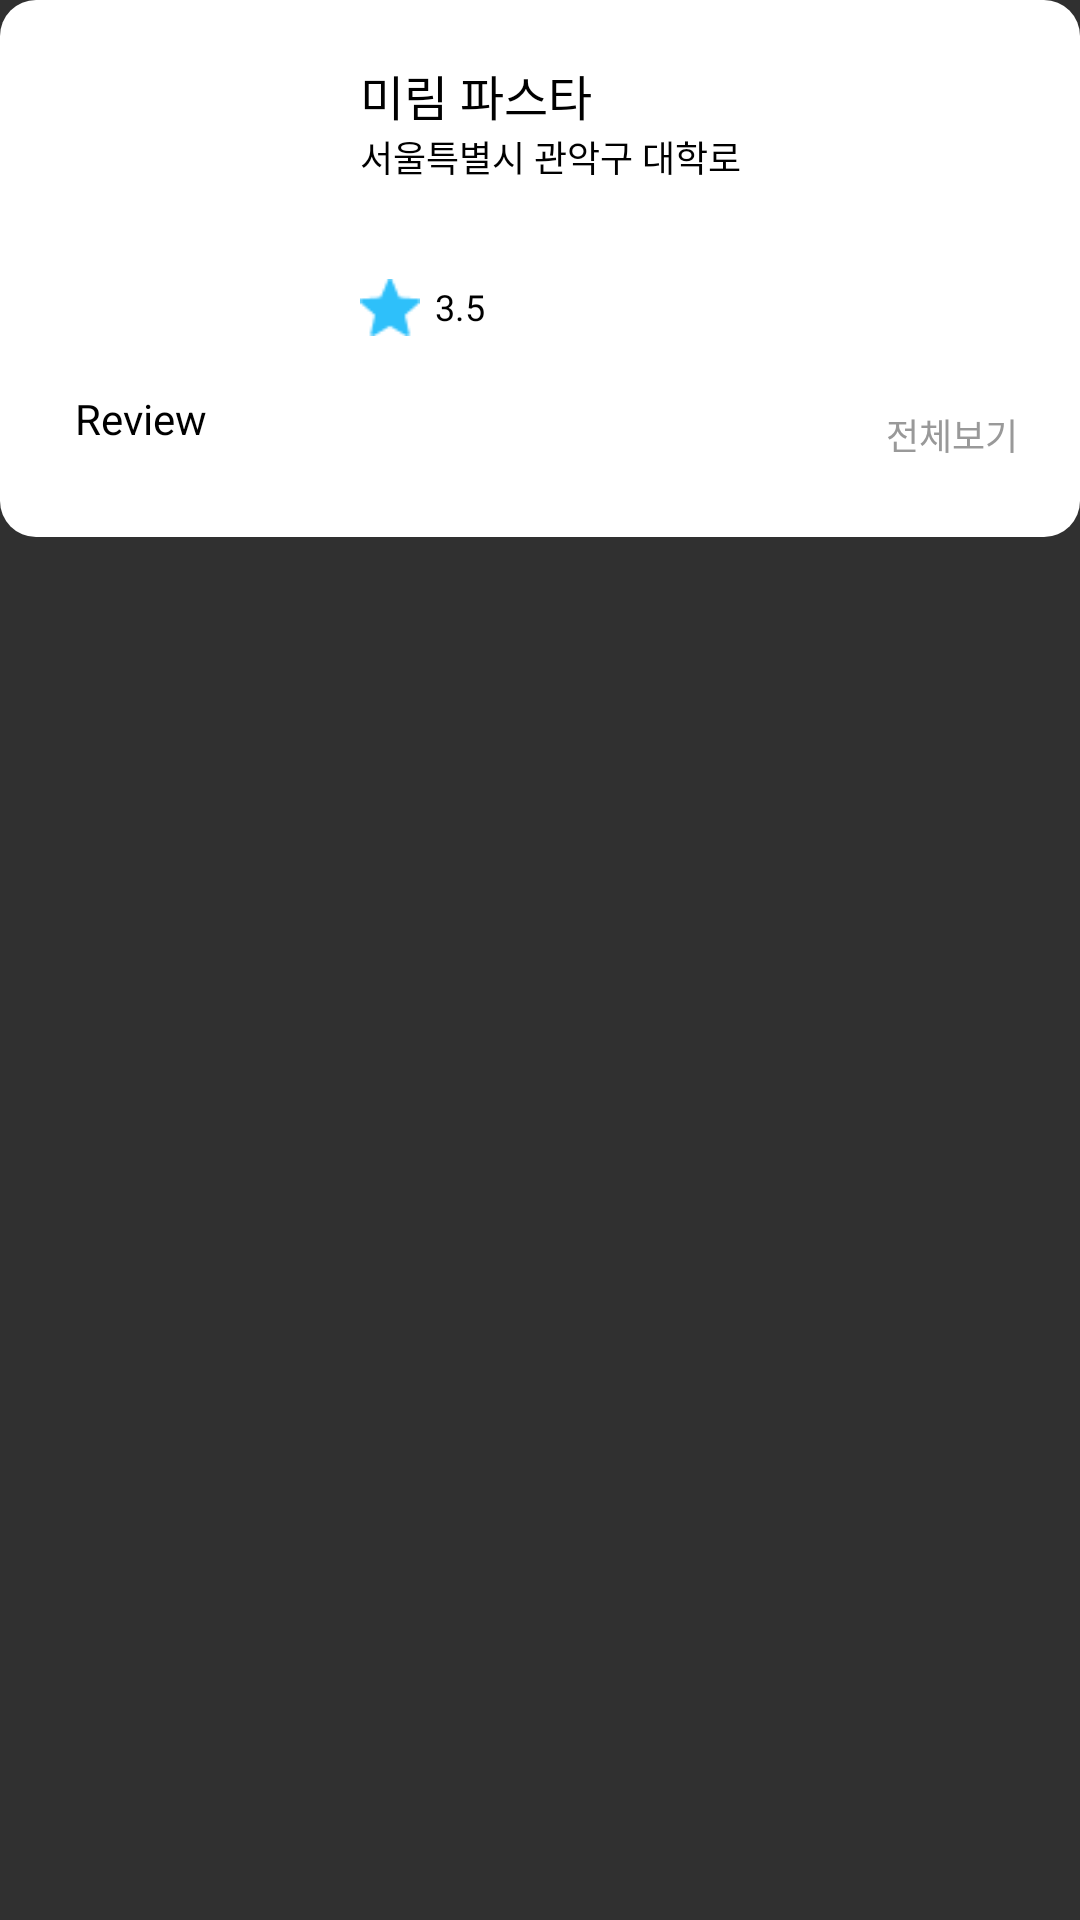

Where to tap for icons on this 1080*1920 app screen, as [x,y]:
starstar: [390,307]
